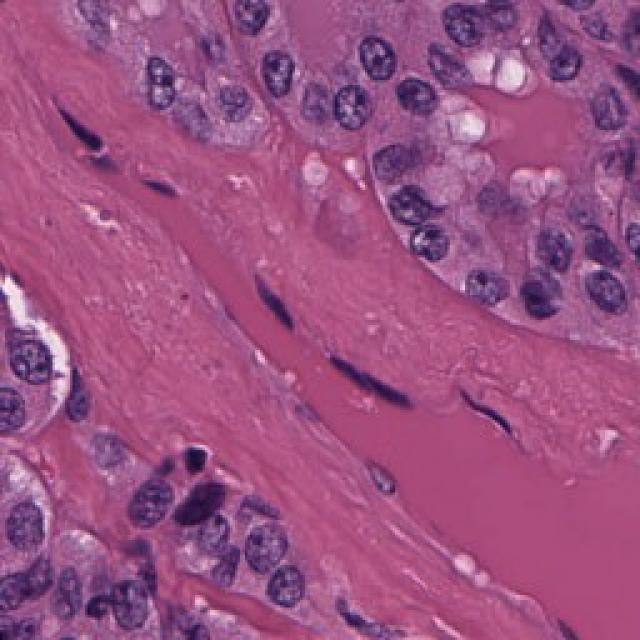abnormal: (220, 504, 305, 593), (333, 1, 414, 89), (0, 310, 72, 406), (0, 480, 62, 577), (247, 22, 309, 114), (115, 462, 178, 546), (447, 253, 512, 333), (570, 262, 638, 336), (384, 211, 453, 281), (118, 42, 185, 114), (425, 0, 501, 62), (211, 79, 272, 151), (320, 68, 378, 141), (575, 65, 629, 143), (255, 554, 322, 616)
